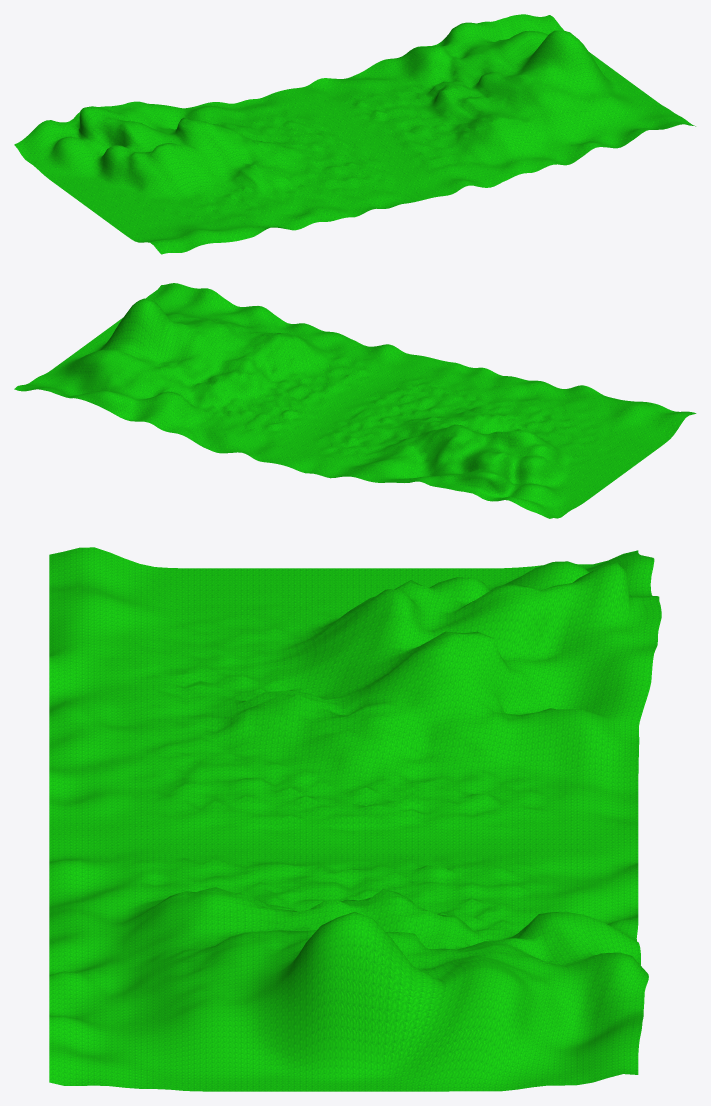
The model's file is Terrain_00_SEA.obj.
3 views of the same model, one above another, from view 1: azimuth 30°, elevation 25°; view 2: azimuth 150°, elevation 25°; view 3: azimuth 270°, elevation 25° (orthographic). The views are drawn at different scales.
Parts seen in each view (by area): view 1: Terrain_00_SEA; view 2: Terrain_00_SEA; view 3: Terrain_00_SEA.
Boxes of the visible parts, x1=… form: Terrain_00_SEA: x1=14, y1=14, x2=695, y2=254; Terrain_00_SEA: x1=14, y1=283, x2=696, y2=518; Terrain_00_SEA: x1=49, y1=547, x2=661, y2=1091.
Size of the model in its own units: 2100 by 246 by 1040.
Materials: 1 (1 with a texture image).
